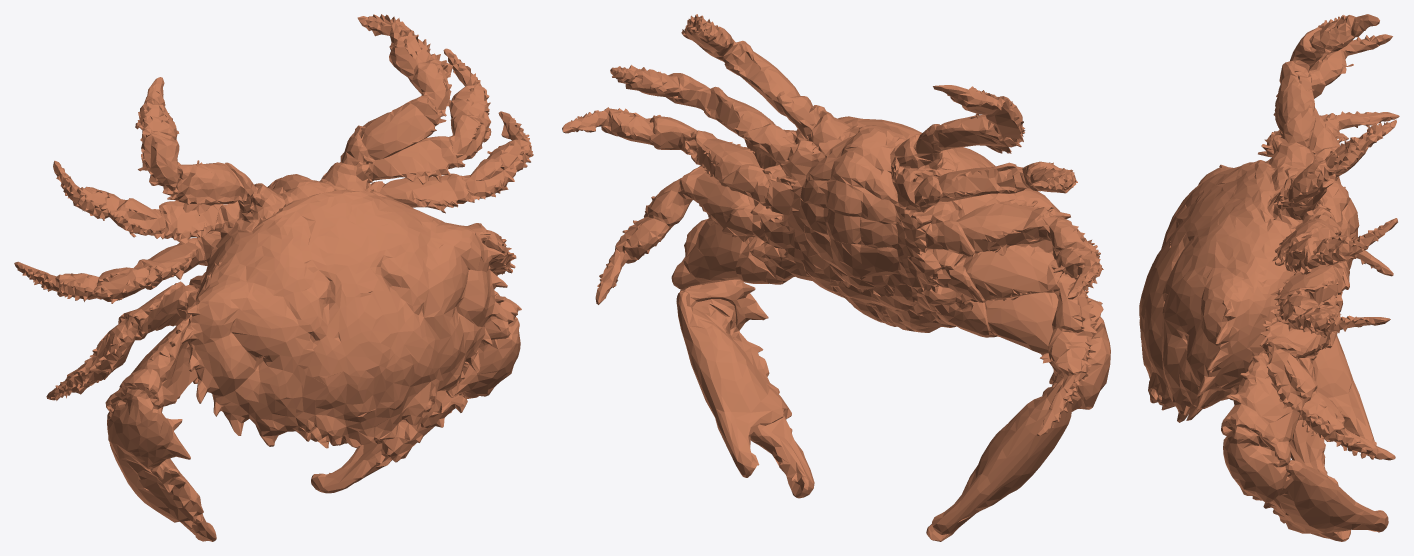
Rendered from crab.glb.
3 views of the same model, side by side, from view 1: azimuth 30°, elevation 25°; view 2: azimuth 150°, elevation 25°; view 3: azimuth 270°, elevation 25° (orthographic). The views are drawn at different scales.
Bounding box in the file's own units: 181 × 162 × 81.26.
